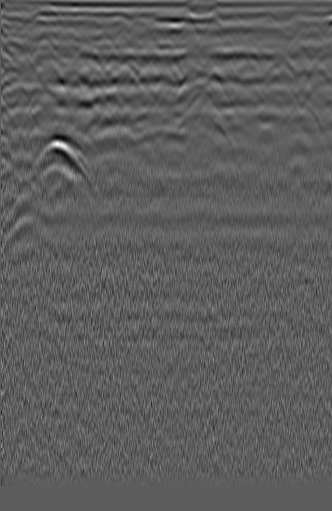상수: (284, 17, 320, 52)
오수: (0, 33, 34, 69)
우수: (170, 16, 202, 45)
